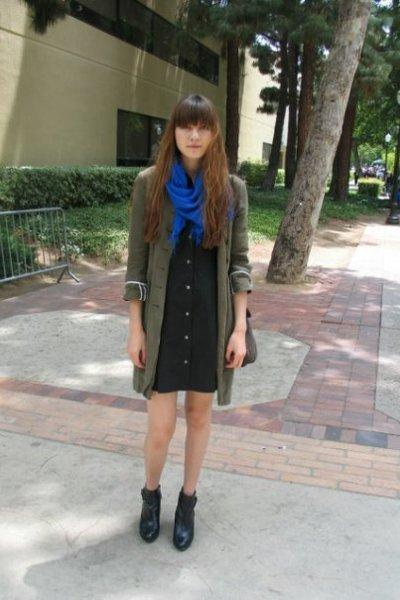dress: (151, 231, 219, 392)
jacket: (114, 165, 256, 404)
shoe: (139, 485, 196, 551)
